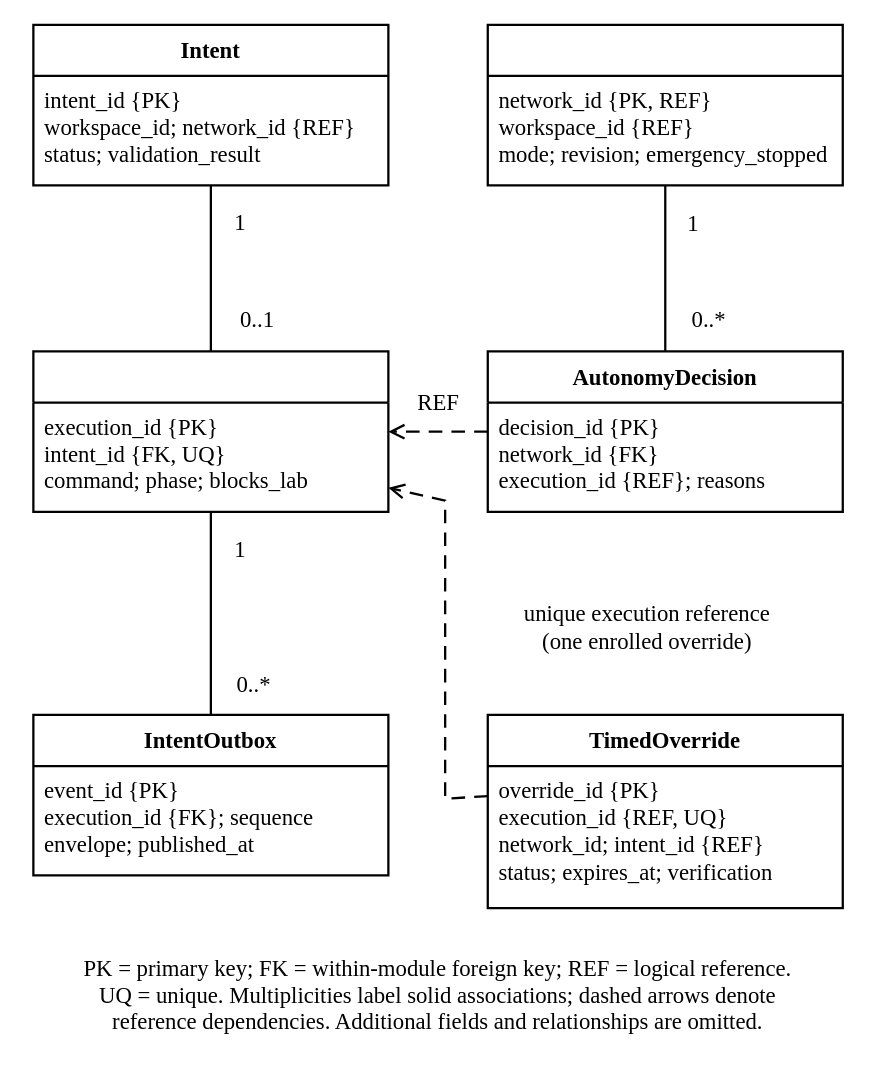
Image size: 875x1066. Some labels were removed from this diagram. The shapes that lost their labels are listed below. From the top down, each one's box as (x1, y1, x2, y2) in pixels, then its label:
(486, 23, 843, 186): AutonomyControl
(32, 350, 389, 512): IntentExecution
